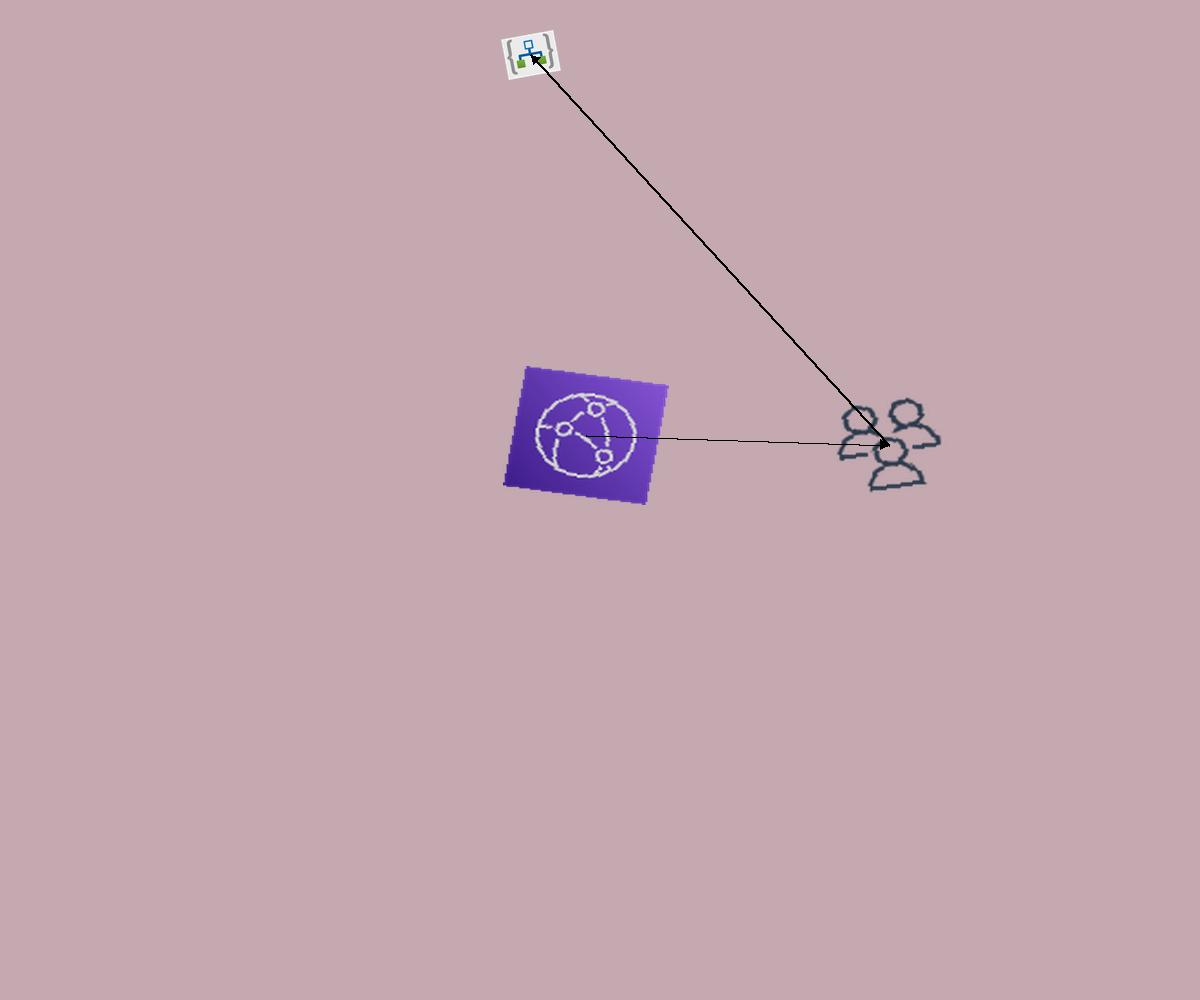AWS-CloudFront: (503, 366, 669, 505)
AWS-Res_Users: (823, 390, 955, 500)
Azure_integration-204-Logic-Apps: (501, 30, 561, 80)
